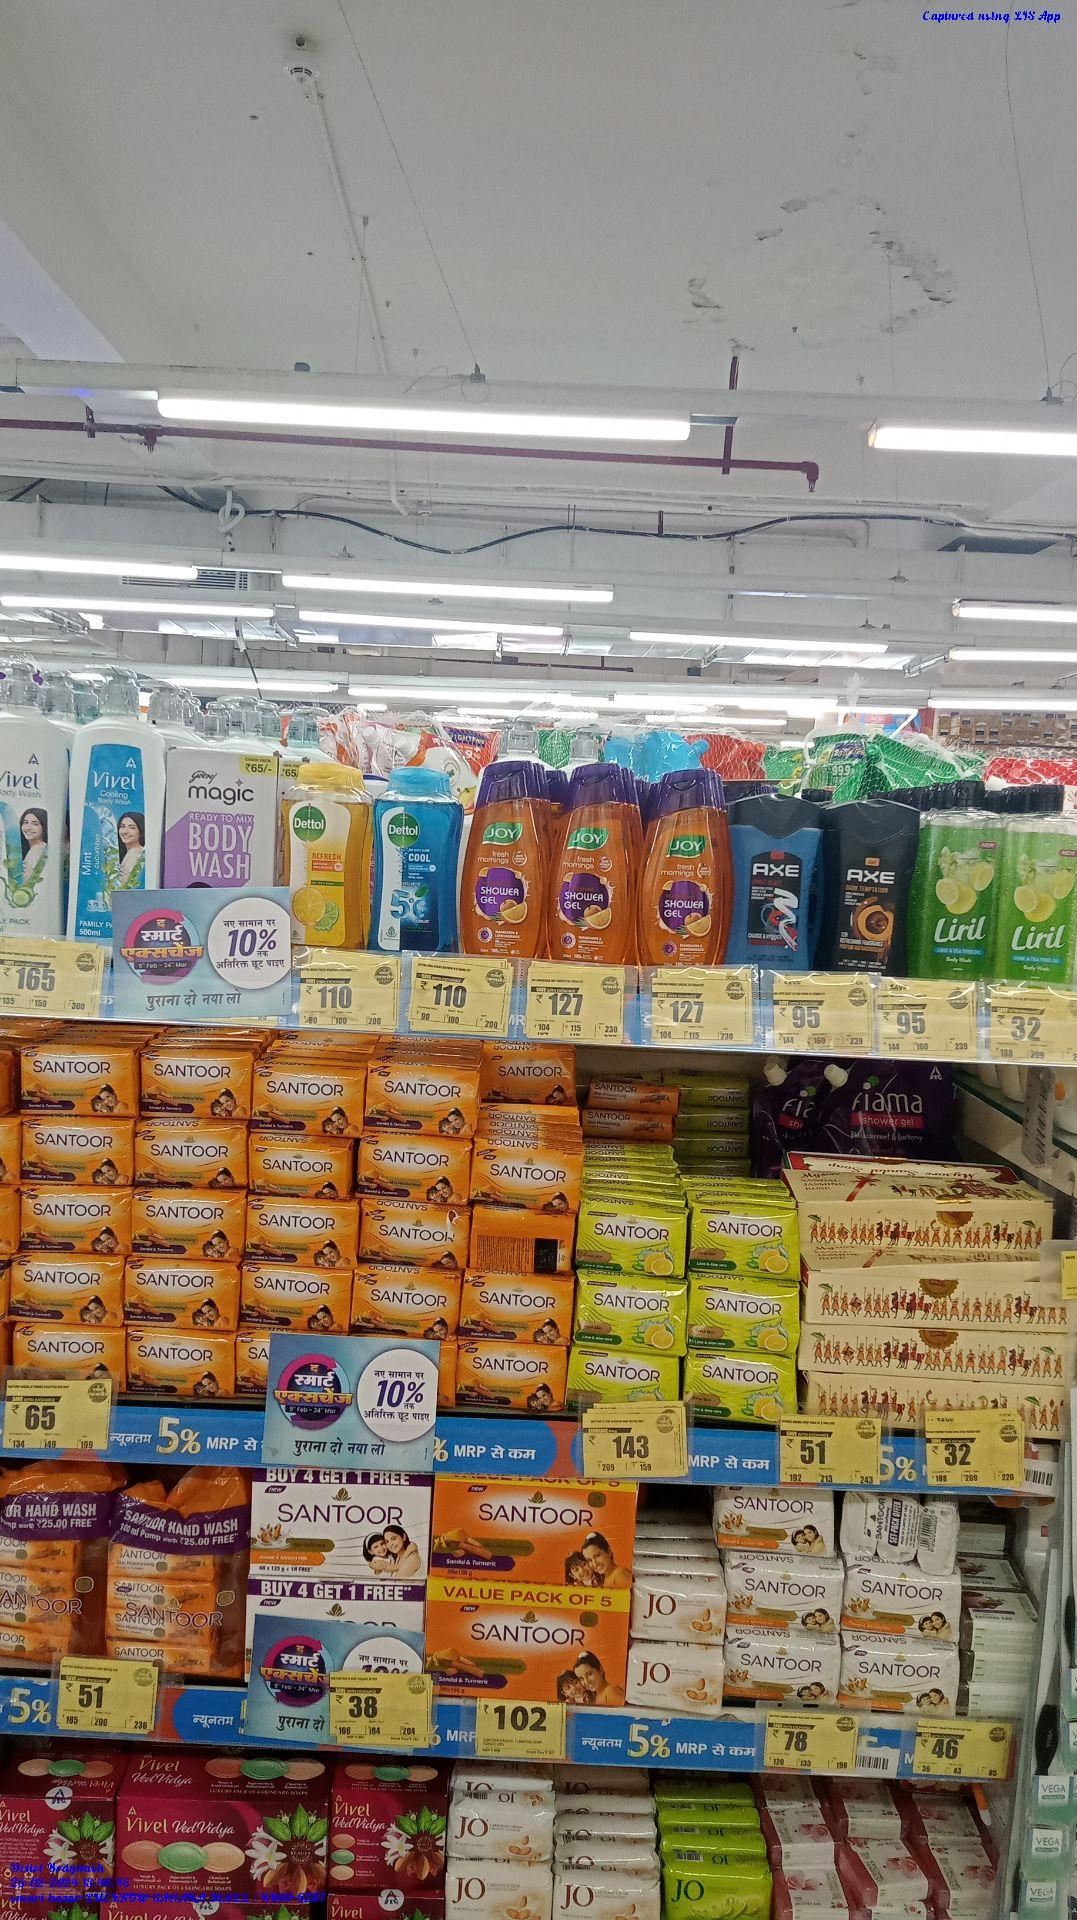Dettol_Bodywash_Cool: (372, 764, 452, 953)
Dettol_Bodywash_Refresh: (285, 761, 363, 947)
Joy_Shower_Gel_Mandarin_and_Lemongrass_250ML: (645, 769, 734, 963), (461, 760, 546, 956), (555, 762, 634, 964)
Liril_Lime_and_Tea_Tree_Oil_Body_Wash_250ML: (923, 778, 997, 980), (1006, 781, 1077, 984)
